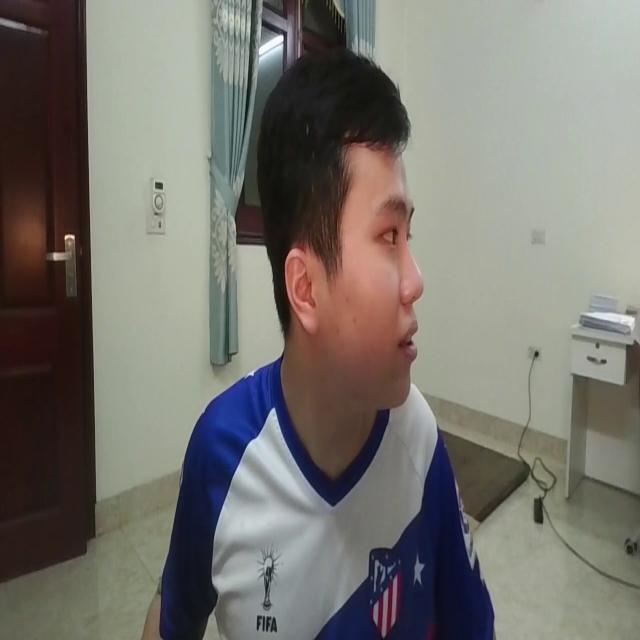student: (106, 44, 505, 640)
